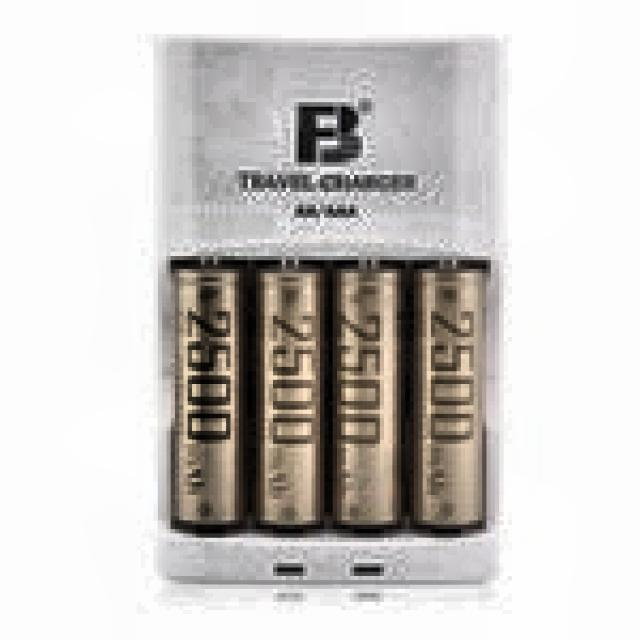Non-Valuable Waste - Batteries: (173, 267, 245, 527), (413, 269, 485, 528), (256, 269, 324, 527), (333, 269, 401, 527)
